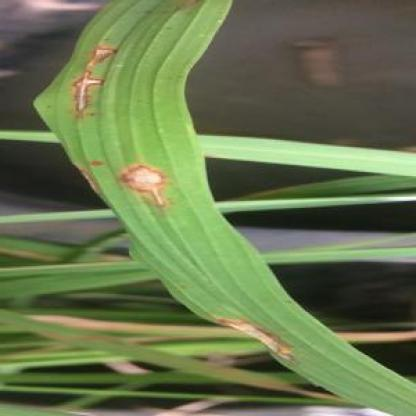Rice blast: (68, 34, 125, 129), (202, 309, 305, 359), (116, 160, 173, 209)
